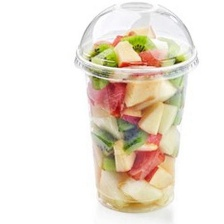glass: (70, 0, 202, 216)
